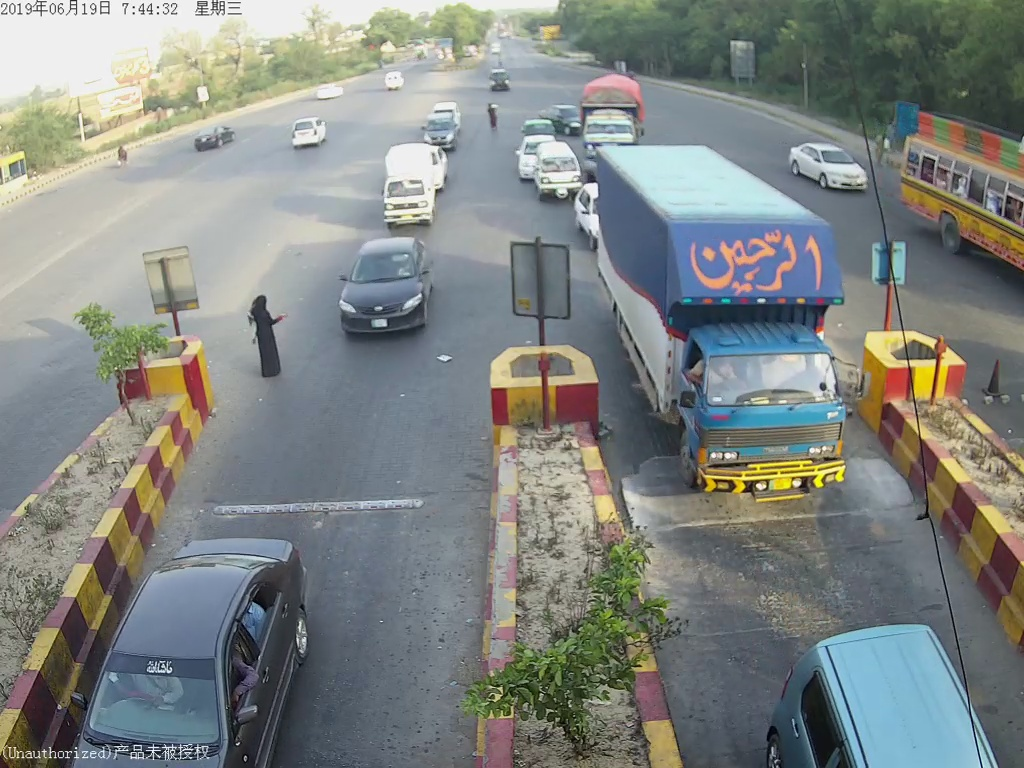Cat-1: (336, 237, 438, 341), (382, 156, 445, 224), (531, 149, 582, 205)
Cat-2: (599, 141, 872, 500)
